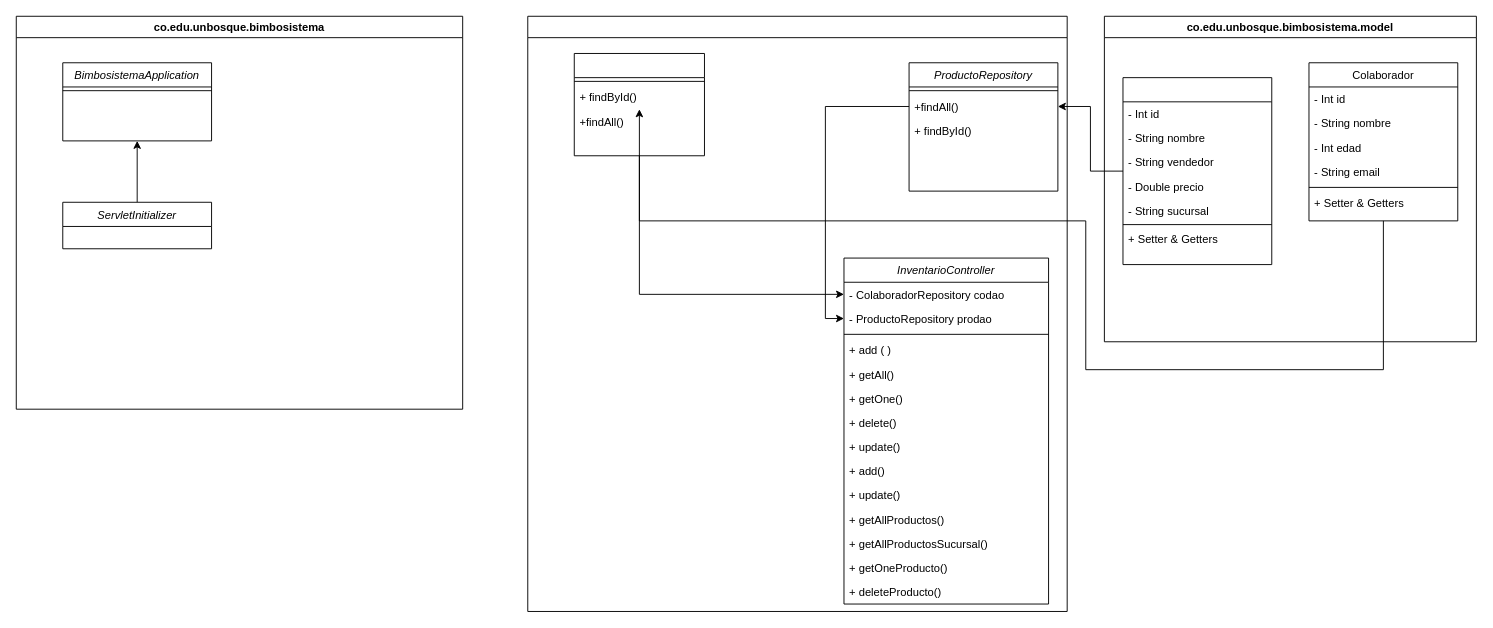
This 1493x628 diagram has some shape labels left out. The box of each missing label's shape, as (x1, y1, x2, y2) in pixels:
co.edu.unbosque.bimbosistema.repository: (527, 15, 1067, 611)
ColaboradorRepository: (573, 53, 704, 156)
Producto: (1122, 77, 1272, 265)
